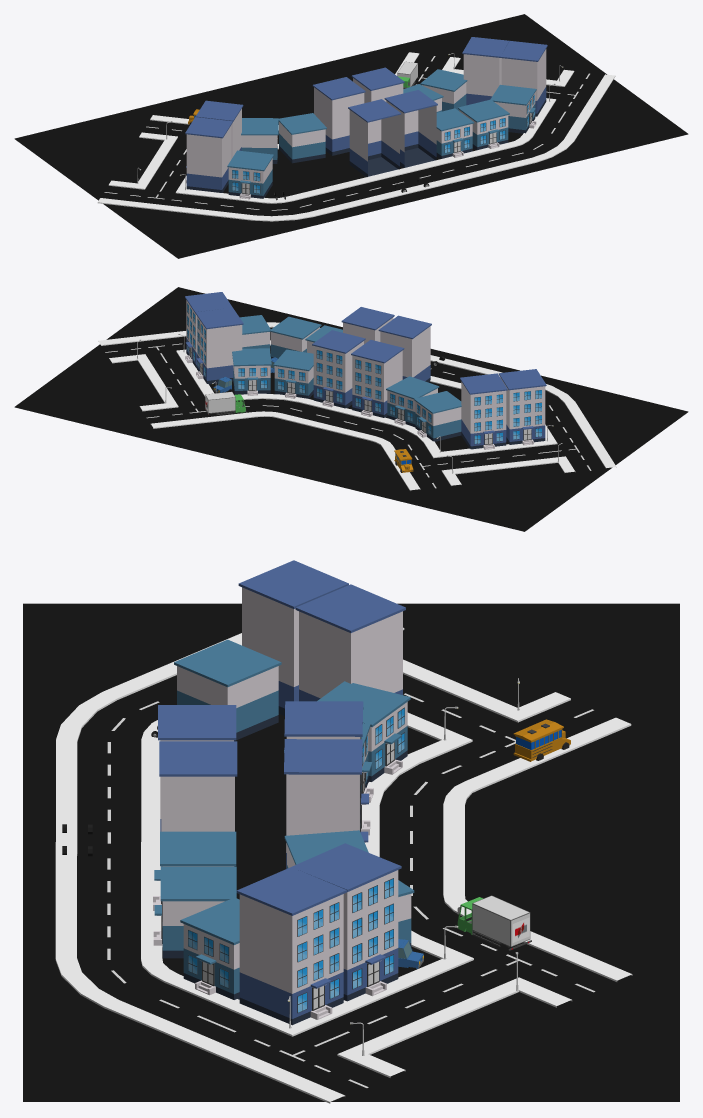
The model's file is big_gltf_city_block.gltf.
The picture shows the model from 3 angles, top to bottom: view 1: azimuth 30°, elevation 25°; view 2: azimuth 150°, elevation 25°; view 3: azimuth 270°, elevation 25°; orthographic projection. The views are drawn at different scales.
Parts seen in each view (by area): view 1: Plane, House1, House1.002, House1.004, House1.003, Cross.003, Cross.008, House1.006, House1.007, House2.001, House2.002, House2.005 (+20 smaller); view 2: Plane, House1.001, House1.003, House1.006, House1.005, House1.002, Cross.003, House1, Cross.001, House2.003, Cross.008, Cross.006 (+19 smaller); view 3: Plane, House1.007, House1.001, Cross.008, House1.006, Cross.001, Cross.006, House1.005, House1.002, House1.004, House2.002, Straight.026 (+25 smaller).
Part boxes in pixels (bbox=[...]): Plane: bbox=[14, 14, 688, 258]; House1: bbox=[348, 99, 401, 176]; House1.002: bbox=[185, 117, 232, 192]; House1.004: bbox=[384, 90, 437, 167]; House1.003: bbox=[312, 77, 365, 155]; Cross.003: bbox=[97, 180, 214, 214]; Cross.008: bbox=[539, 69, 615, 119]; House1.006: bbox=[462, 37, 509, 105]; House1.007: bbox=[500, 41, 547, 116]; House2.001: bbox=[278, 113, 326, 163]; House2.002: bbox=[227, 150, 273, 199]; House2.005: bbox=[458, 100, 509, 150]; Plane: bbox=[14, 287, 688, 531]; House1.001: bbox=[460, 373, 507, 449]; House1.003: bbox=[351, 340, 404, 417]; House1.006: bbox=[195, 307, 243, 384]; House1.005: bbox=[312, 330, 365, 408]; House1.002: bbox=[498, 369, 546, 445]; Cross.003: bbox=[545, 423, 616, 472]; House1: bbox=[378, 315, 431, 382]; Cross.001: bbox=[382, 441, 461, 490]; House2.003: bbox=[414, 391, 461, 441]; Cross.008: bbox=[98, 331, 186, 363]; Cross.006: bbox=[139, 394, 256, 428]; Plane: bbox=[23, 603, 679, 1101]; House1.007: bbox=[236, 867, 346, 1025]; House1.001: bbox=[295, 584, 405, 701]; Cross.008: bbox=[179, 1008, 405, 1103]; House1.006: bbox=[291, 843, 401, 1001]; Cross.001: bbox=[407, 692, 631, 789]; Cross.006: bbox=[411, 922, 632, 1007]; House1.005: bbox=[284, 739, 368, 868]; House1.002: bbox=[238, 560, 348, 716]; House1.004: bbox=[159, 741, 237, 866]; House2.002: bbox=[174, 639, 281, 740]; Straight.026: bbox=[377, 958, 518, 1023].
Bounding box in the file's own units: 22.39 × 2.41 × 12.29.
Materials: 27 (5 with a texture image).
